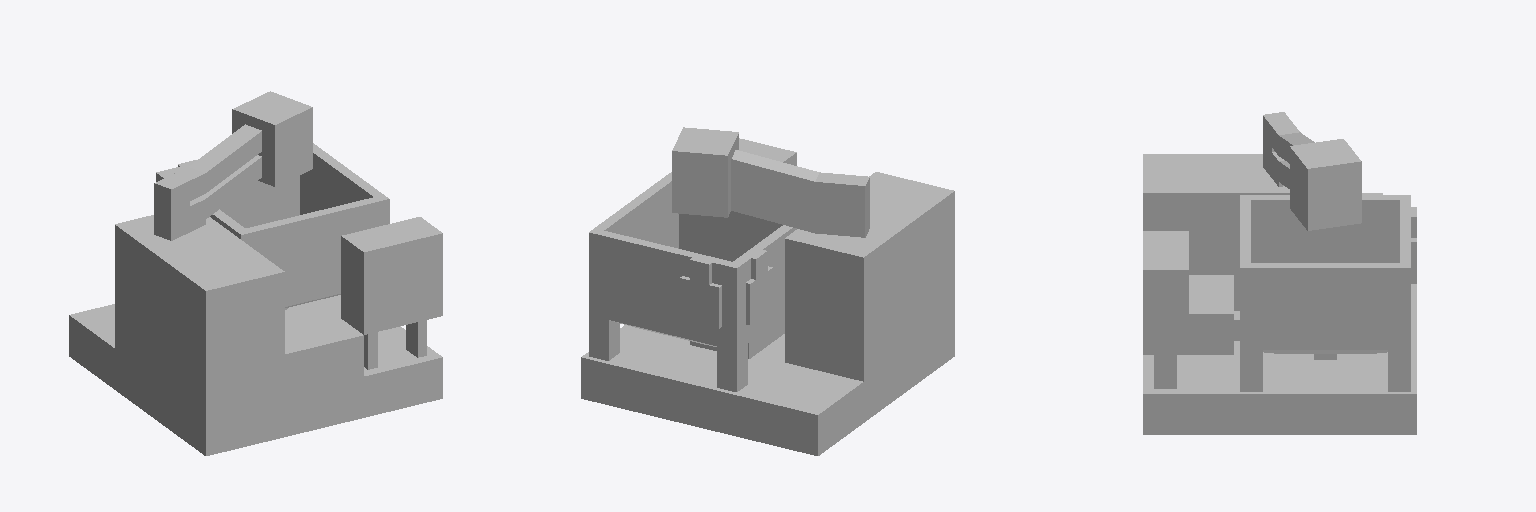
Rendered from mixer.obj.
3 views of the same model, side by side, from view 1: azimuth 30°, elevation 25°; view 2: azimuth 150°, elevation 25°; view 3: azimuth 270°, elevation 25° (orthographic).
Visible parts, largest first — view 1: base; view 2: base; view 3: base.
Boxes of the visible parts, x1,y1,x2,y2 form: base: [69, 91, 442, 455]; base: [581, 127, 954, 455]; base: [1143, 112, 1416, 434].
Size of the model in its own units: 3 by 2.94 by 3.